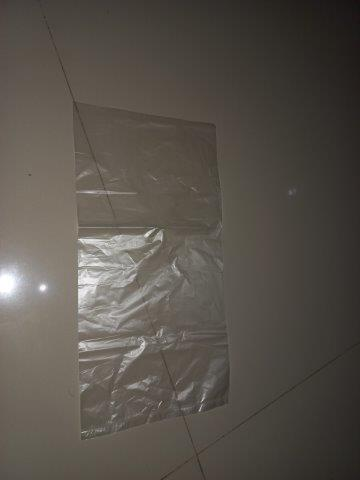plastik: (74, 100, 230, 441)
